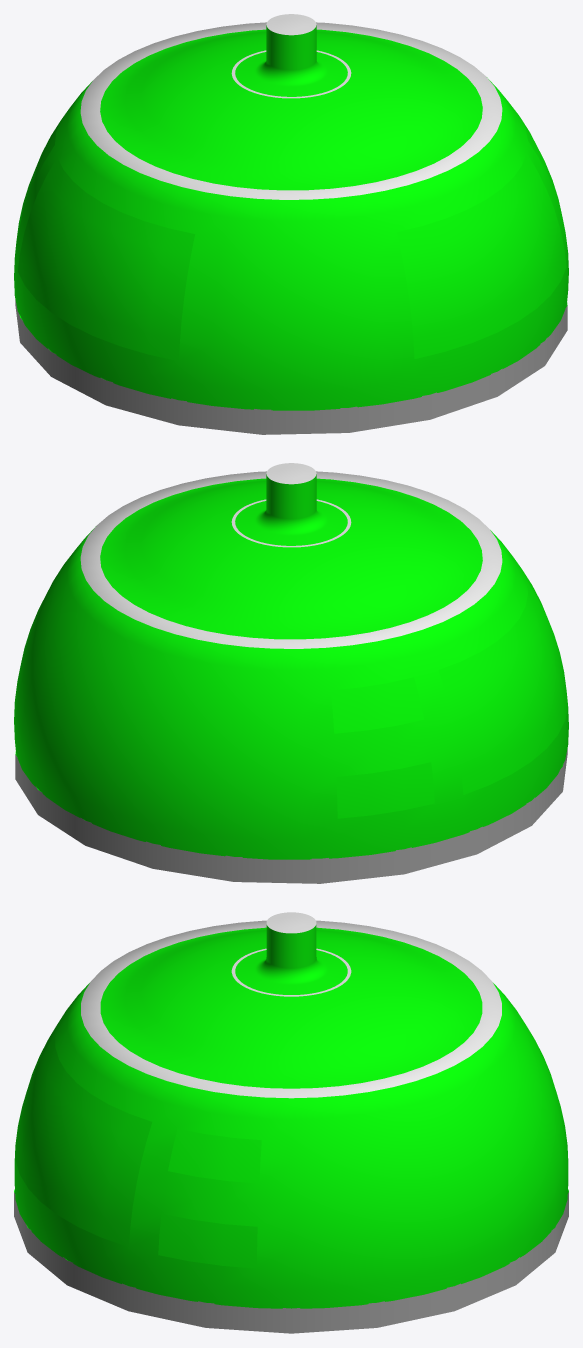
Rendered from Dome.fbx.
3 renders of one model, top to bottom at view 1: azimuth 30°, elevation 25°; view 2: azimuth 150°, elevation 25°; view 3: azimuth 270°, elevation 25°, orthographic.
Visible parts, largest first — view 1: polySurface1, polySurface3, polySurface4, Floor; view 2: polySurface1, polySurface3, Floor, polySurface2, polySurface6; view 3: polySurface1, polySurface4, Floor, polySurface5, polySurface7.
Boxes of the visible parts, x1,y1,x2,y2 form: polySurface1: (14,14,568,410); polySurface3: (17,157,195,361); polySurface4: (396,153,566,358); Floor: (15,300,567,434); polySurface1: (14,463,568,859); polySurface3: (438,582,567,794); Floor: (15,749,567,883); polySurface2: (336,762,434,818); polySurface6: (331,677,424,733); polySurface1: (14,912,568,1308); polySurface4: (15,1035,152,1246); Floor: (14,1189,568,1333); polySurface5: (158,1213,257,1268); polySurface7: (168,1128,261,1183).
Bounding box in the file's own units: 0.2 × 0.1171 × 0.2.
